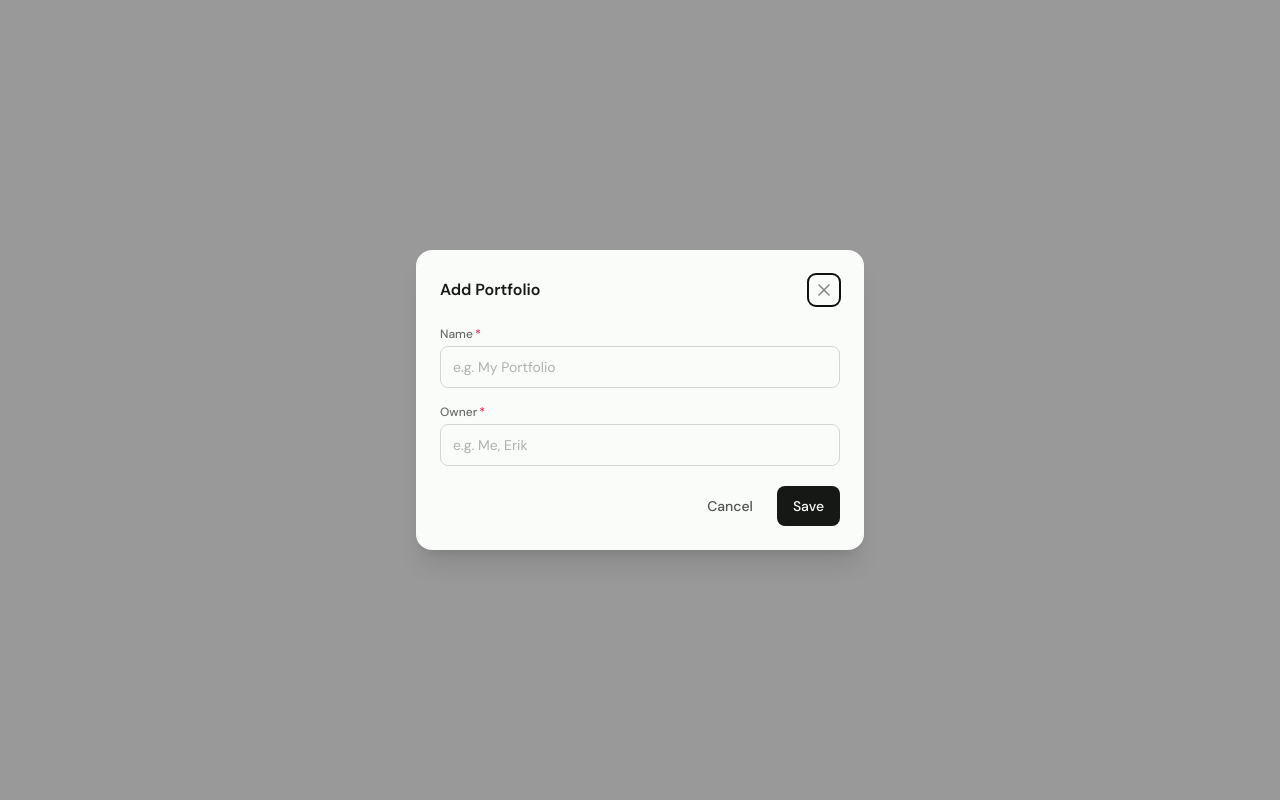
Test case: PortfolioDialog › Validation › shows error when saving with empty name
Step 1. Type "Erik" into the field with placeholder "e.g. Me, Erik" → [640, 445], box [440, 424, 840, 466]
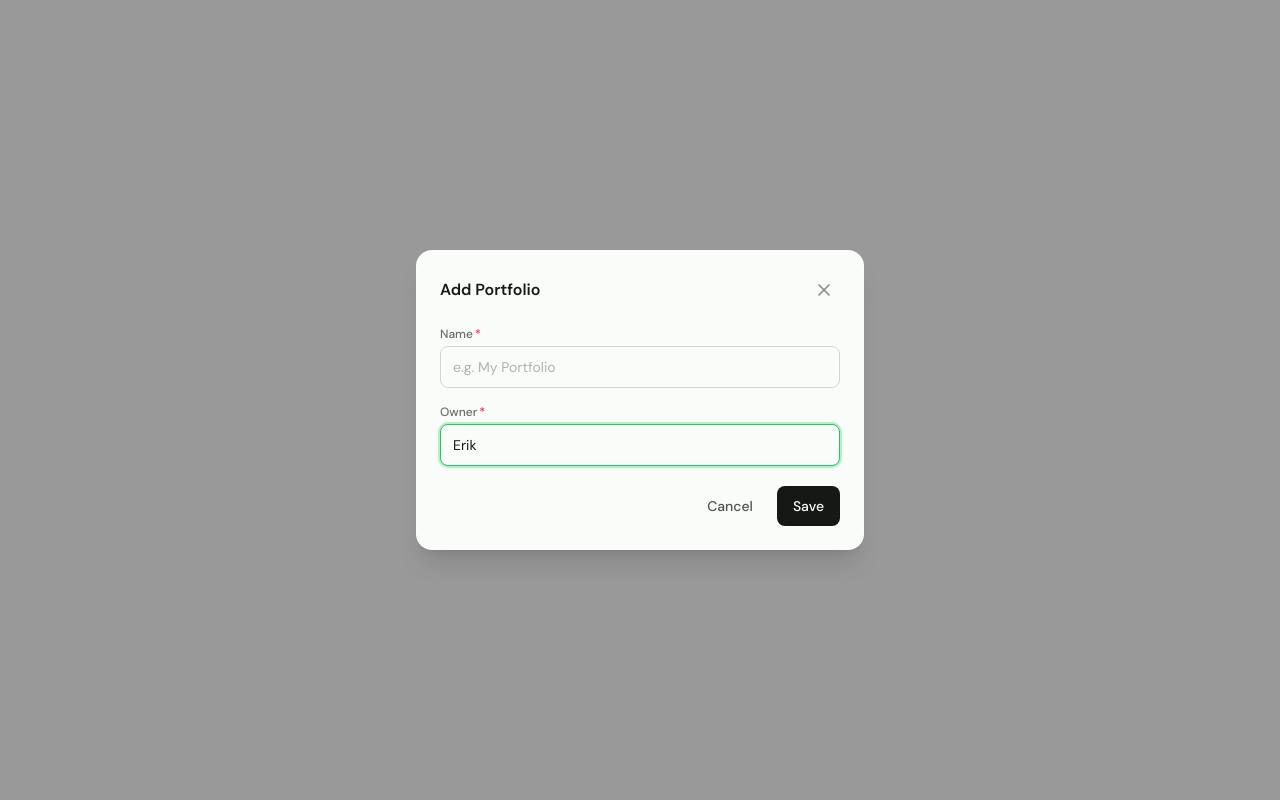
Step 2. Click the button "Save" → [808, 506], box [777, 486, 840, 526]
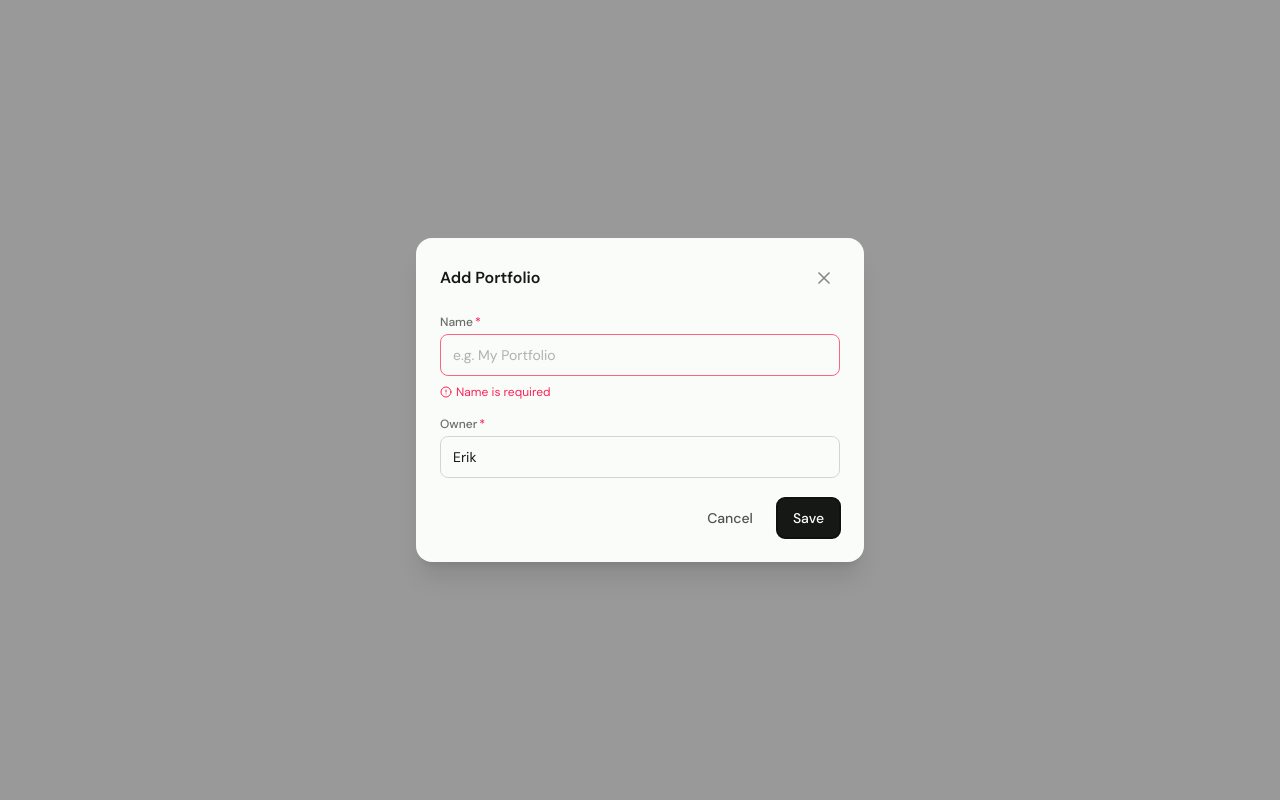
Check: the text "Name is required" is shown, box [440, 384, 550, 400]
